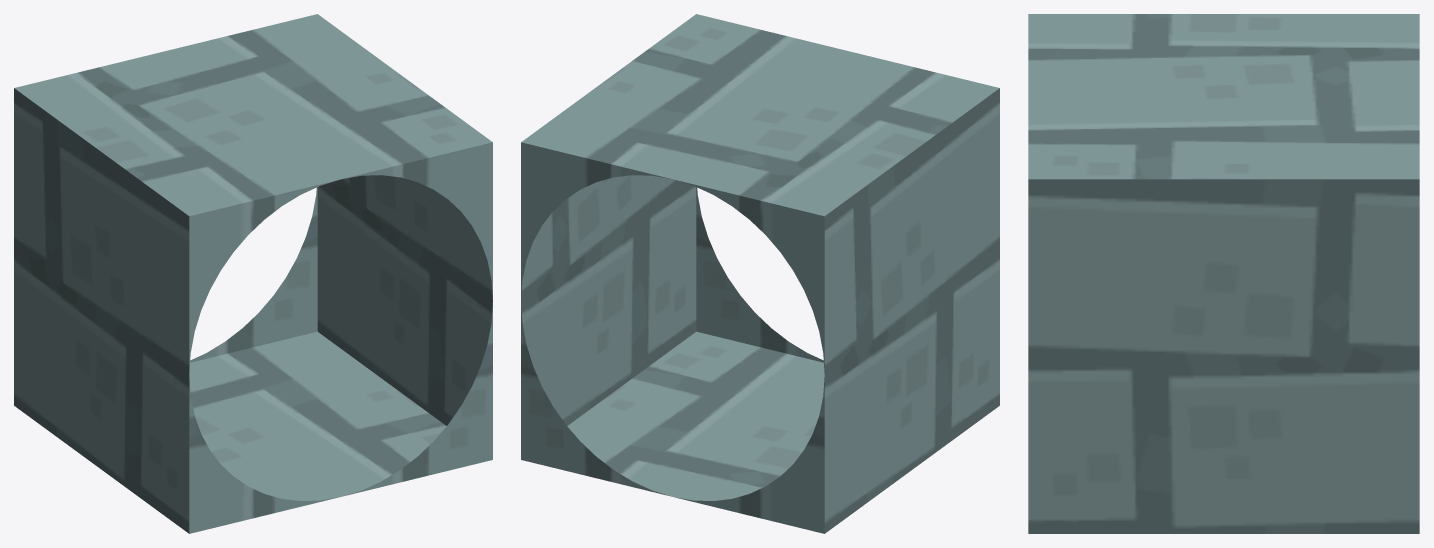
The model's file is wallWIthHole.obj.
3 renders of one model, left to right at view 1: azimuth 30°, elevation 25°; view 2: azimuth 150°, elevation 25°; view 3: azimuth 270°, elevation 25°, orthographic. The views are drawn at different scales.
Parts seen in each view (by area): view 1: Cube; view 2: Cube; view 3: Cube.
Part boxes in pixels (x1,y1,x2,y2): Cube: (14,14,492,533); Cube: (521,14,999,533); Cube: (1028,14,1419,533).
Bounding box in the file's own units: 1 × 1 × 1.
Materials: 1 (1 with a texture image).
